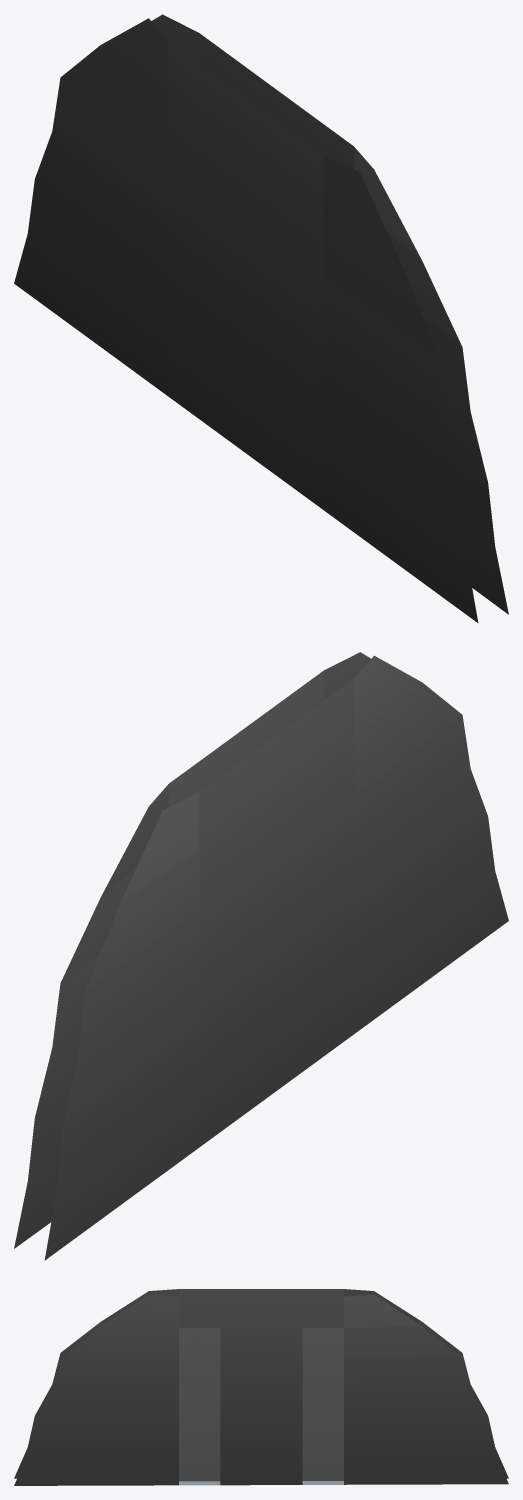
File: puerta blindada.fbx
3 renders of one model, top to bottom at view 1: azimuth 30°, elevation 25°; view 2: azimuth 150°, elevation 25°; view 3: azimuth 270°, elevation 25°, orthographic. The views are drawn at different scales.
Visible parts, largest first — view 1: Cube.001; view 2: Cube.001; view 3: Cube.001.
Boxes of the visible parts, left/top/right/bottom form: Cube.001: left=14, top=14, right=508, bottom=622; Cube.001: left=14, top=652, right=508, bottom=1260; Cube.001: left=14, top=1289, right=508, bottom=1485.
Size of the model in its own units: 33.21 by 370 by 874.
1 material, 1 textured.
